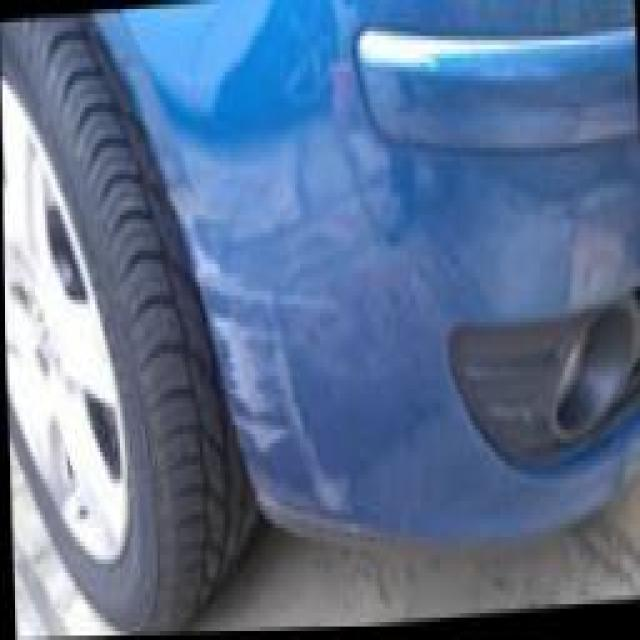Bumper: (182, 231, 356, 537)
